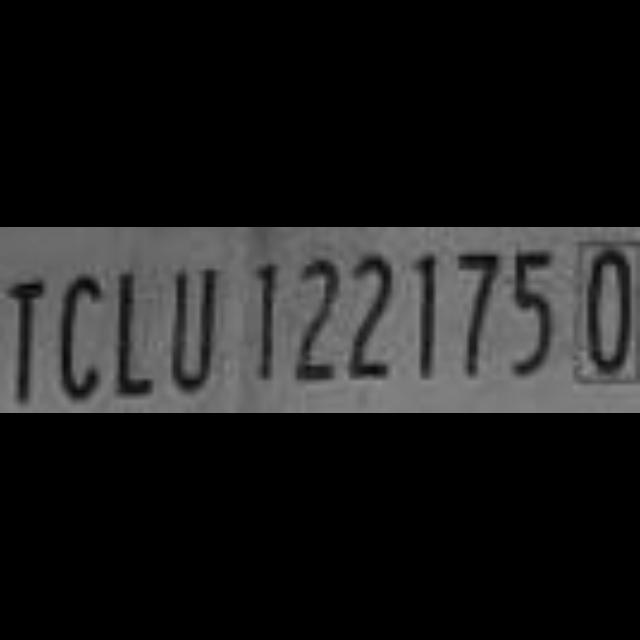0: (578, 237, 640, 375)
1: (408, 241, 442, 383), (245, 254, 281, 386)
2: (340, 246, 396, 384), (294, 252, 340, 391)
5: (508, 243, 556, 389)
7: (452, 248, 502, 382)
c: (58, 262, 104, 408)
l: (111, 265, 160, 401)
t: (1, 271, 54, 413)
u: (166, 257, 222, 403)
